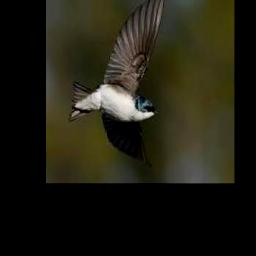Swallow: (69, 0, 166, 167)
